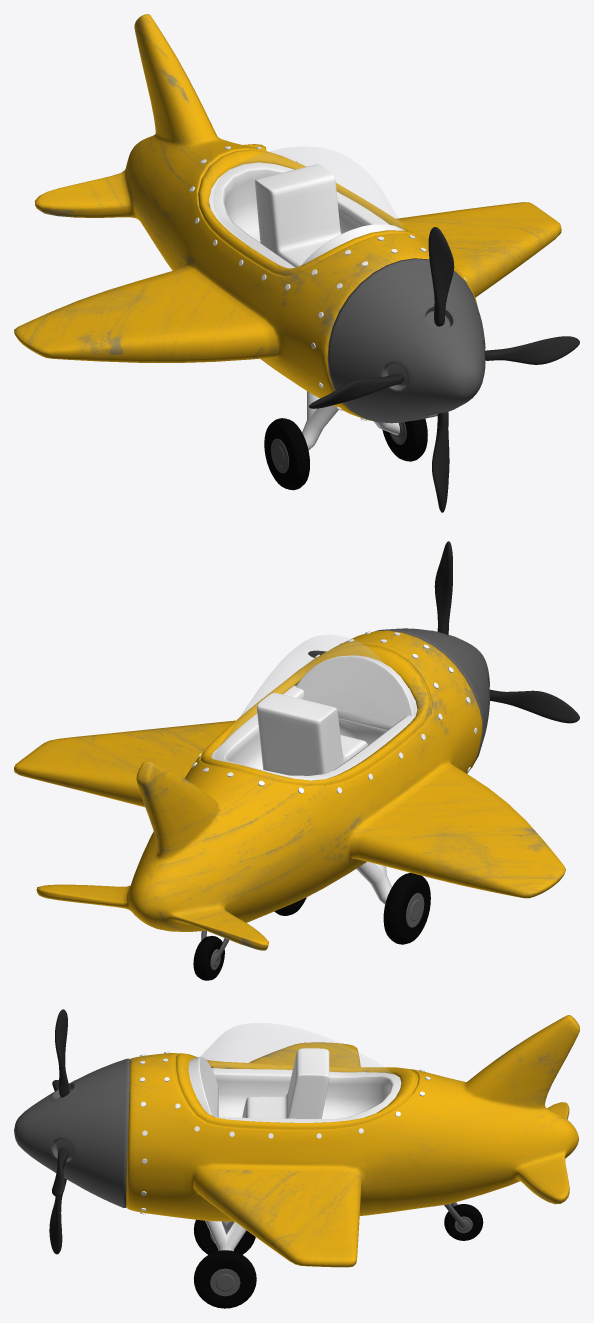
3 renders of one model, top to bottom at view 1: azimuth 30°, elevation 25°; view 2: azimuth 150°, elevation 25°; view 3: azimuth 270°, elevation 25°, orthographic. The views are drawn at different scales.
Visible parts, largest first — view 1: Body_9, head_7, Cube_17, Plane.004_8, Cube.001_82, Window_11, front_wheels_13, Y_part_14, Cylinder_10, Circle.001_16; view 2: Body_9, Cylinder_10, Cube_17, Window_11, Plane.004_8, Cube.001_82, head_7, front_wheels_13, Circle.003_12, Y_part_14; view 3: Body_9, head_7, Cube.001_82, Window_11, Cube_17, front_wheels_13, Plane.004_8, Cylinder_10, Circle.003_12, Y_part_14, Circle.001_16.
Boxes of the visible parts, x1,y1,x2,y2 form: Body_9: (14,14,561,420); head_7: (327,258,485,423); Cube_17: (255,164,340,267); Plane.004_8: (309,227,579,512); Cube.001_82: (209,162,389,268); Window_11: (231,146,404,230); front_wheels_13: (264,418,427,490); Y_part_14: (302,391,399,450); Cylinder_10: (302,224,404,264); Circle.001_16: (271,422,406,473); Body_9: (14,630,565,950); Cylinder_10: (296,655,417,744); Cube_17: (257,692,367,775); Window_11: (218,635,392,749); Plane.004_8: (308,541,579,723); Cube.001_82: (211,685,415,780); head_7: (375,628,489,768); front_wheels_13: (274,873,430,944); Circle.003_12: (193,936,224,980); Y_part_14: (356,861,391,904); Body_9: (126,1015,579,1267); head_7: (14,1058,129,1207); Cube.001_82: (212,1067,401,1122); Window_11: (201,1023,395,1075); Cube_17: (242,1048,329,1118); front_wheels_13: (193,1219,256,1308); Plane.004_8: (49,1009,69,1254); Cylinder_10: (188,1056,218,1117); Circle.003_12: (444,1204,483,1240); Y_part_14: (205,1220,246,1251); Circle.001_16: (210,1232,240,1296).
Bounding box in the file's own units: 8.04 × 4.65 × 8.77.
